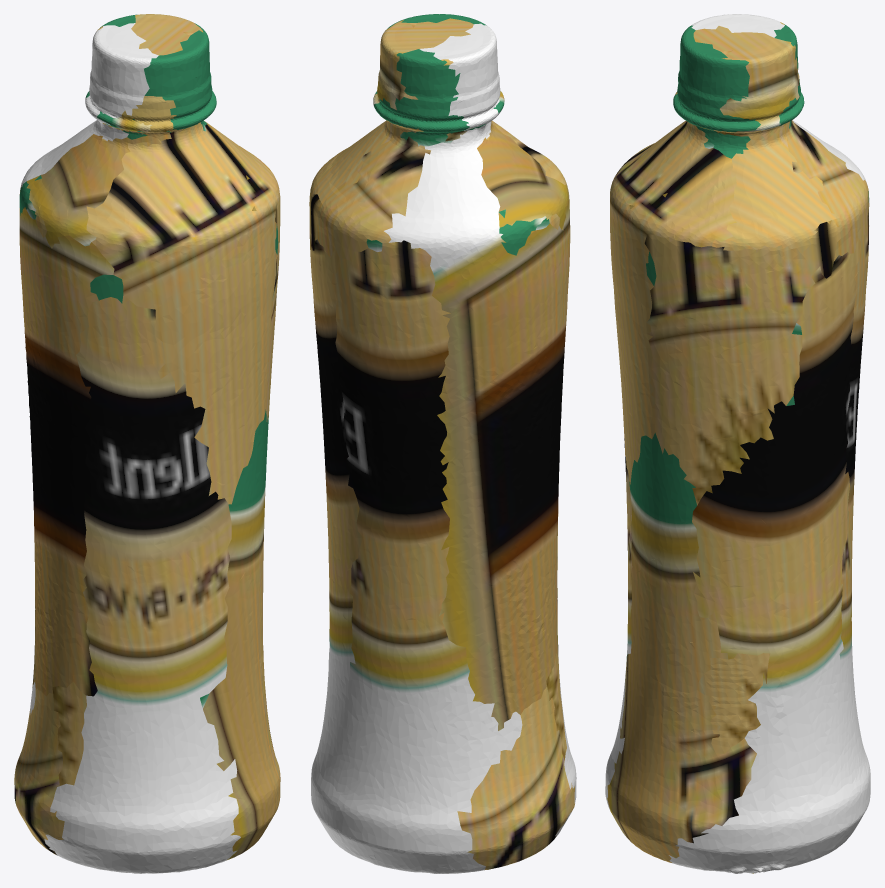
The model's file is yuanqisenlin_ranchachunxiangwutangwulongchayinliao_500ml.obj.gltf.
3 renders of one model, left to right at view 1: azimuth 30°, elevation 25°; view 2: azimuth 150°, elevation 25°; view 3: azimuth 270°, elevation 25°, orthographic.
Parts seen in each view (by area): view 1: Node; view 2: Node; view 3: Node.
Part boxes in pixels (x1,y1,x2,y2): Node: (14, 14, 280, 873); Node: (309, 14, 576, 873); Node: (605, 14, 870, 873).
Size of the model in its own units: 66.93 by 219 by 66.53.
Materials: 1 (1 with a texture image).
